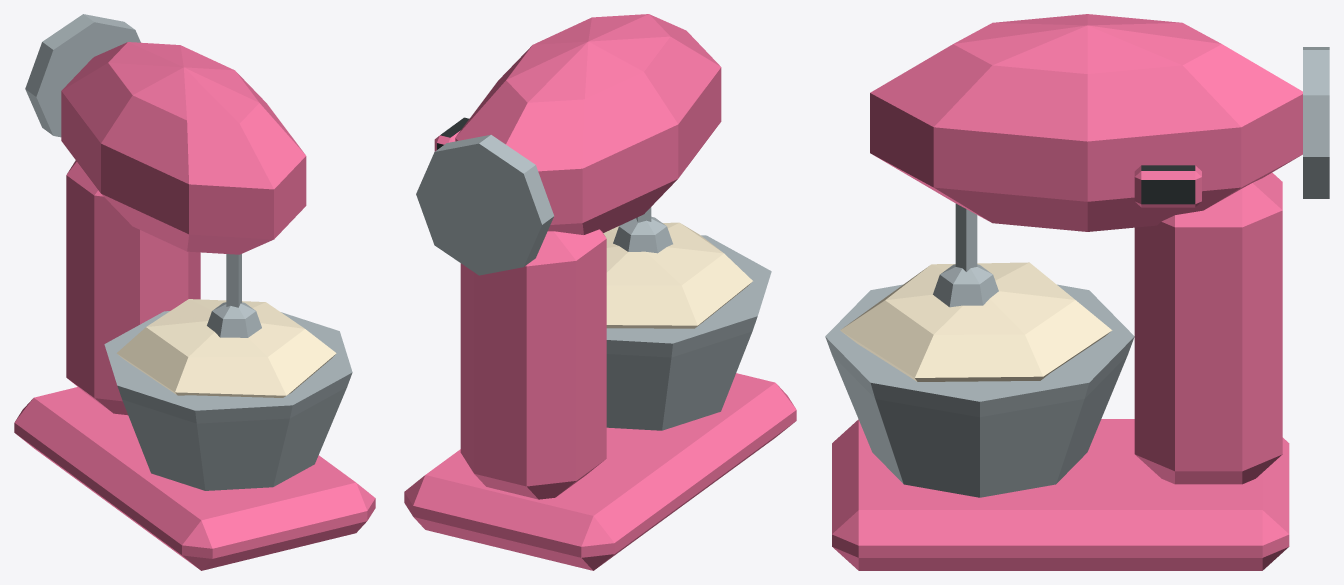
The model's file is mixer.glb.
The picture shows the model from 3 angles, left to right: view 1: azimuth 30°, elevation 25°; view 2: azimuth 150°, elevation 25°; view 3: azimuth 270°, elevation 25°; orthographic projection. The views are drawn at different scales.
Parts seen in each view (by area): view 1: mixer-m; view 2: mixer-m; view 3: mixer-m.
Part boxes in pixels (x1,y1,x2,y2): mixer-m: (14,14,375,570); mixer-m: (404,14,796,570); mixer-m: (825,14,1329,570).
Size of the model in its own units: 0.23 by 0.41 by 0.375.
